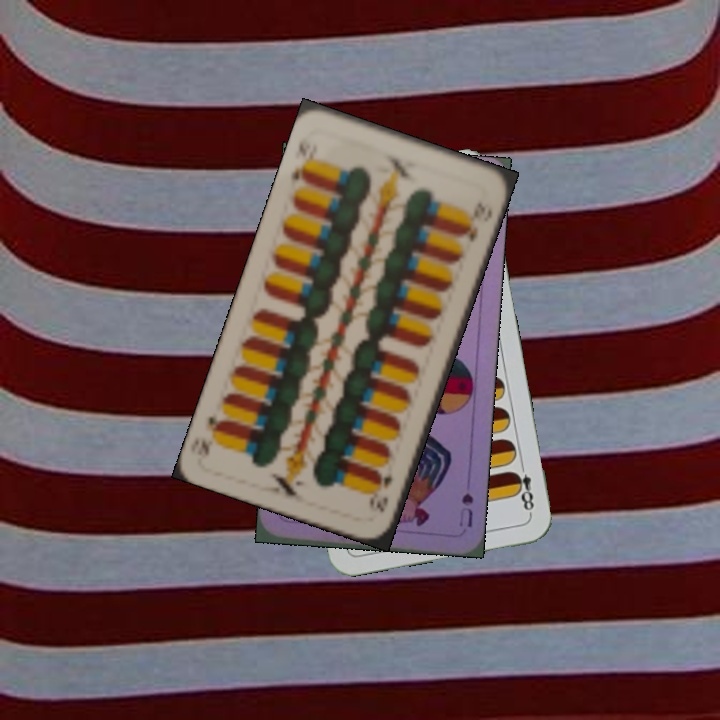E10: (287, 131, 317, 188), (365, 462, 396, 515)
E8: (509, 458, 537, 517)
SU: (455, 489, 476, 530)
